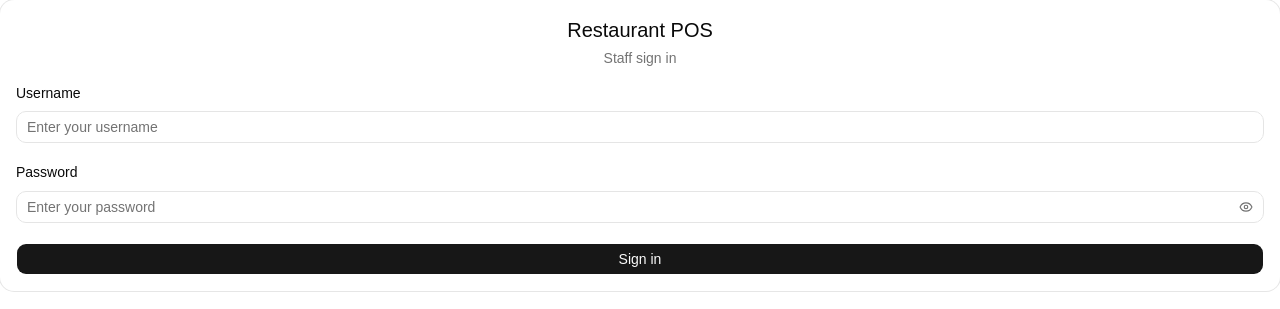
Scenario: <LoginForm /> › toggles password visibility without losing the typed value
Type "secret123" into the password field labelled "Password".
click(624, 206); type("secret123")  # box [17,190,1232,222]
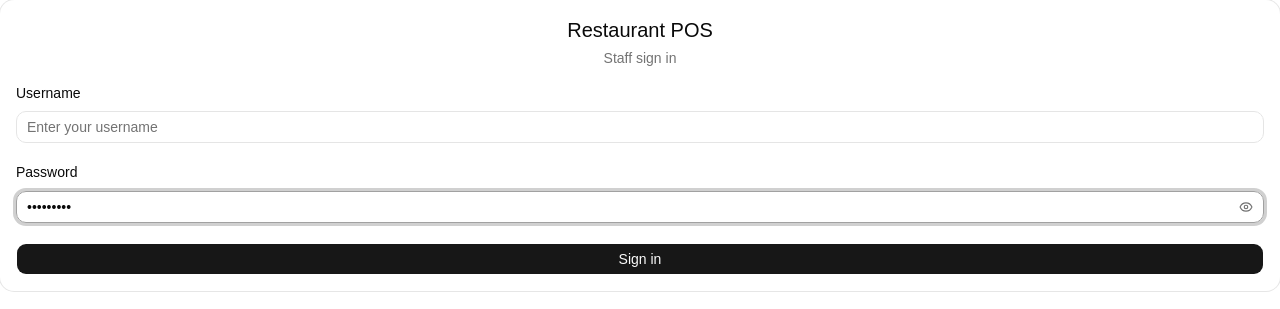
Click the button named "show password".
click(1246, 206)  # box [1232,194,1260,218]
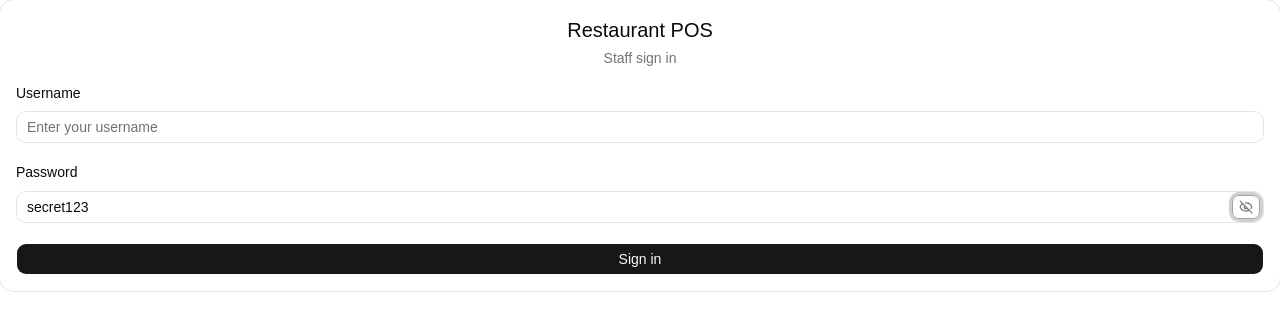
Expected: the field labelled "Password" shows its text, [17,190,1232,222]
Click the button named "hide password".
click(1246, 206)  # box [1232,194,1260,218]
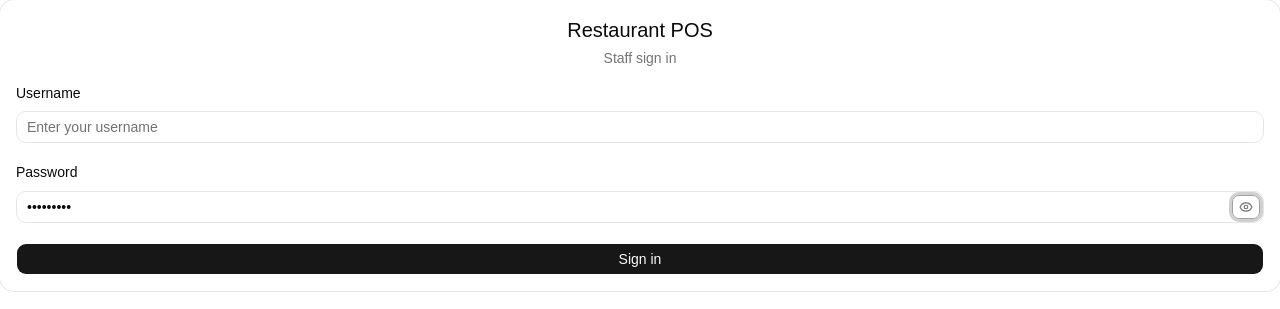
Expected: the password field labelled "Password" hides its text, [17,190,1232,222]
